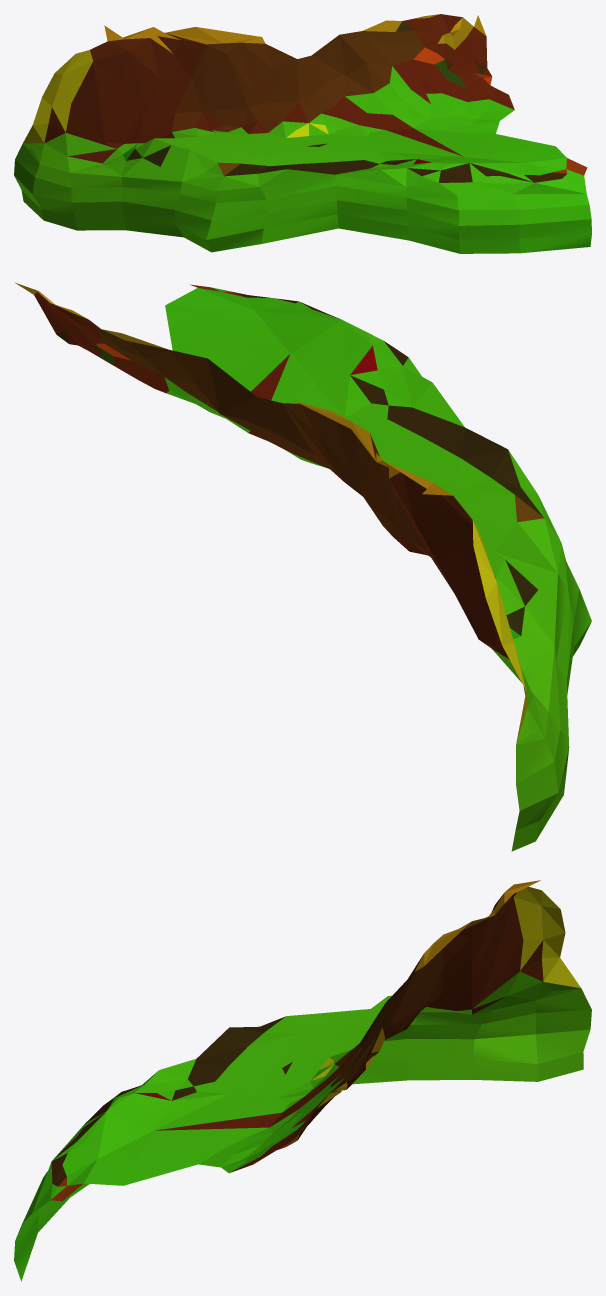
3 views of the same model, one above another, from view 1: azimuth 30°, elevation 25°; view 2: azimuth 150°, elevation 25°; view 3: azimuth 270°, elevation 25° (orthographic). The views are drawn at different scales.
Parts seen in each view (by area): view 1: z49; view 2: z49; view 3: z49.
Boxes of the visible parts, x1,y1,x2,y2 form: z49: (14,14,591,253); z49: (15,282,591,851); z49: (14,880,591,1281).
Size of the model in its own units: 4965 by 2253 by 4822.
